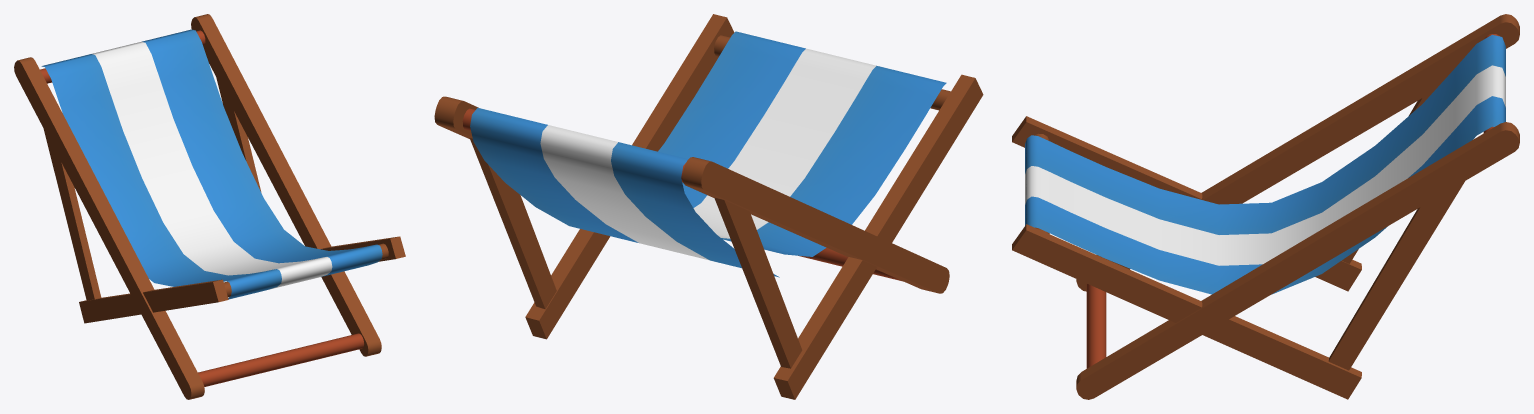
The model's file is beach-chair-05.glb.
3 views of the same model, side by side, from view 1: azimuth 30°, elevation 25°; view 2: azimuth 150°, elevation 25°; view 3: azimuth 270°, elevation 25° (orthographic). The views are drawn at different scales.
Visible parts, largest first — view 1: beach chair 05; view 2: beach chair 05; view 3: beach chair 05.
Boxes of the visible parts, x1,y1,x2,y2 form: beach chair 05: (14, 14, 405, 399); beach chair 05: (434, 14, 983, 399); beach chair 05: (1012, 14, 1519, 399).
Bounding box in the file's own units: 0.7437 × 0.8081 × 1.37.
Materials: 1 (1 with a texture image).
